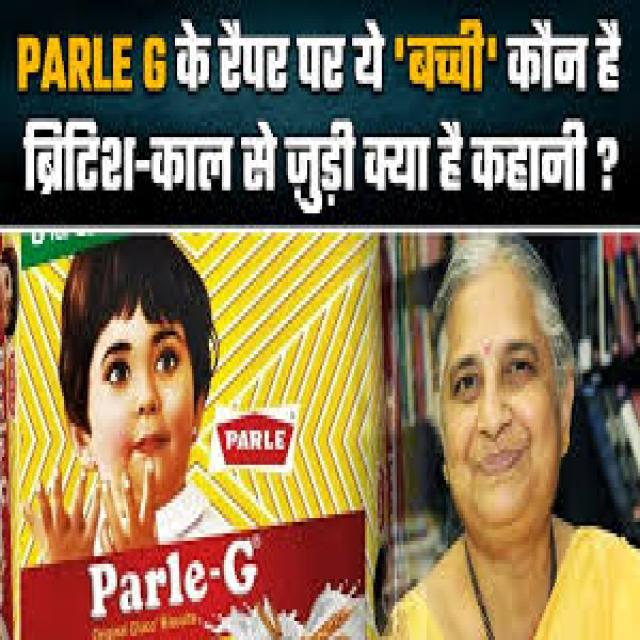parle-g: (0, 224, 378, 640)
